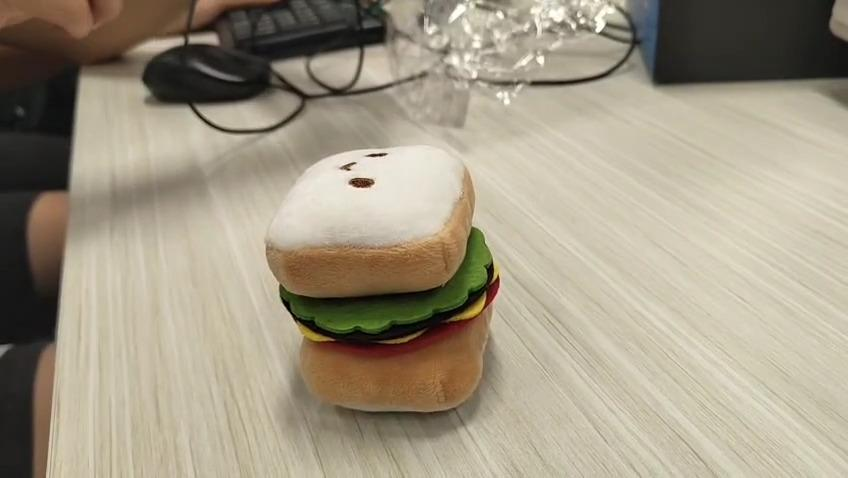objects: (265, 144, 502, 413)
